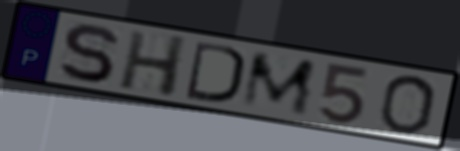5: (315, 60, 374, 126)
D: (184, 38, 247, 105)
H: (116, 28, 191, 100)
M: (238, 50, 320, 118)
O: (376, 74, 440, 136)
S: (57, 22, 121, 84)
